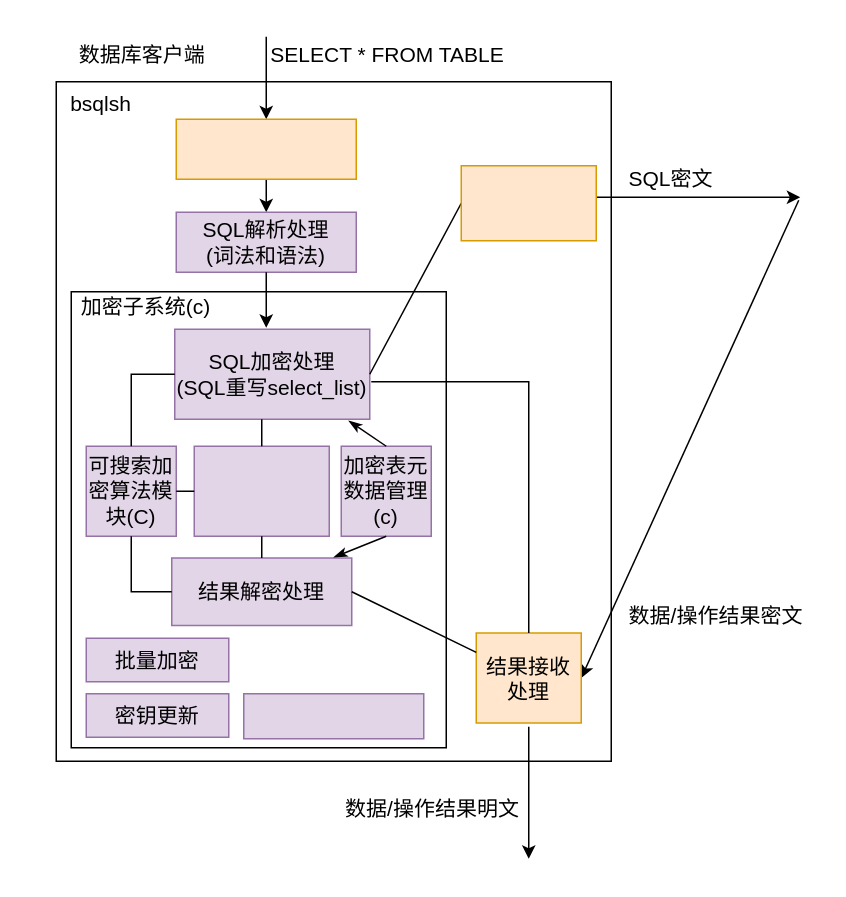
Some shapes in this 846 by 897 pixel diagram are drawn without their labels. The centre of each missing label's shape, as x and y in pixels:
SQL发送处理: the point at 528,202
SQL接收处理: the point at 265,148
密钥管理 (根密钥/列密钥): the point at 261,490
通用加密算法模块: the point at 333,715
